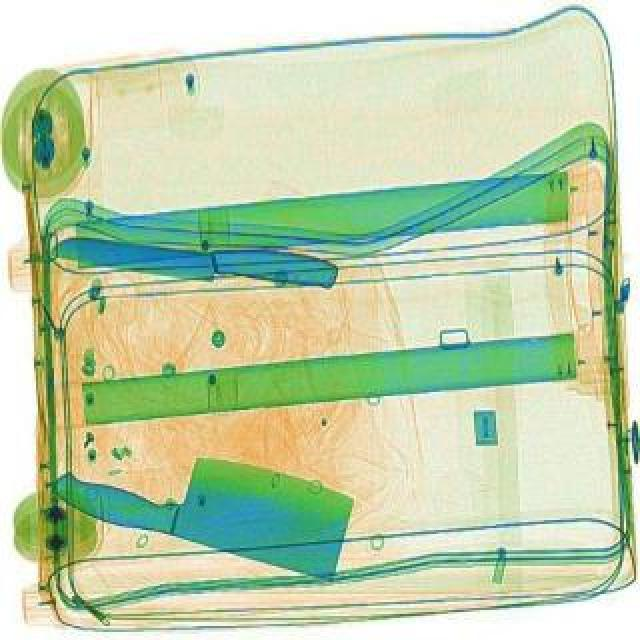knife: (46, 436, 360, 574), (36, 230, 344, 294)
